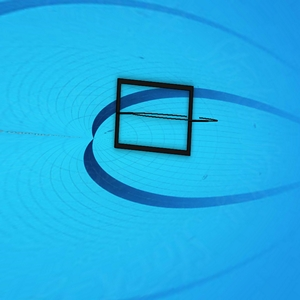circle: (110, 75, 222, 156)
